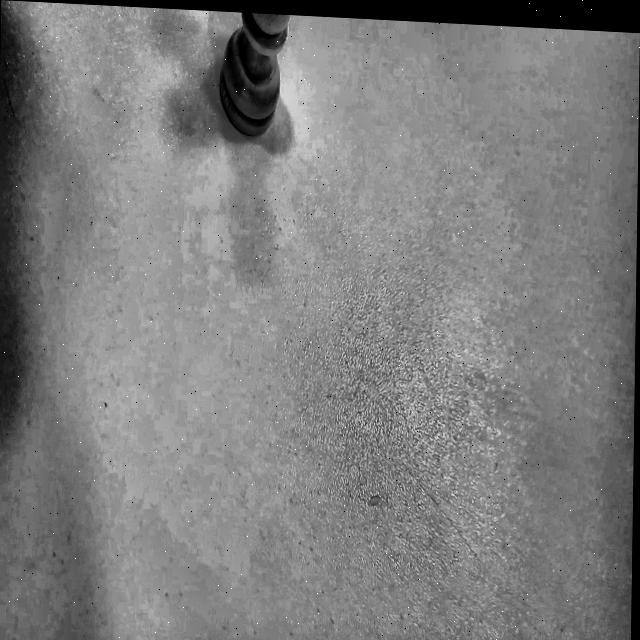white-pawn: (164, 9, 329, 141)
